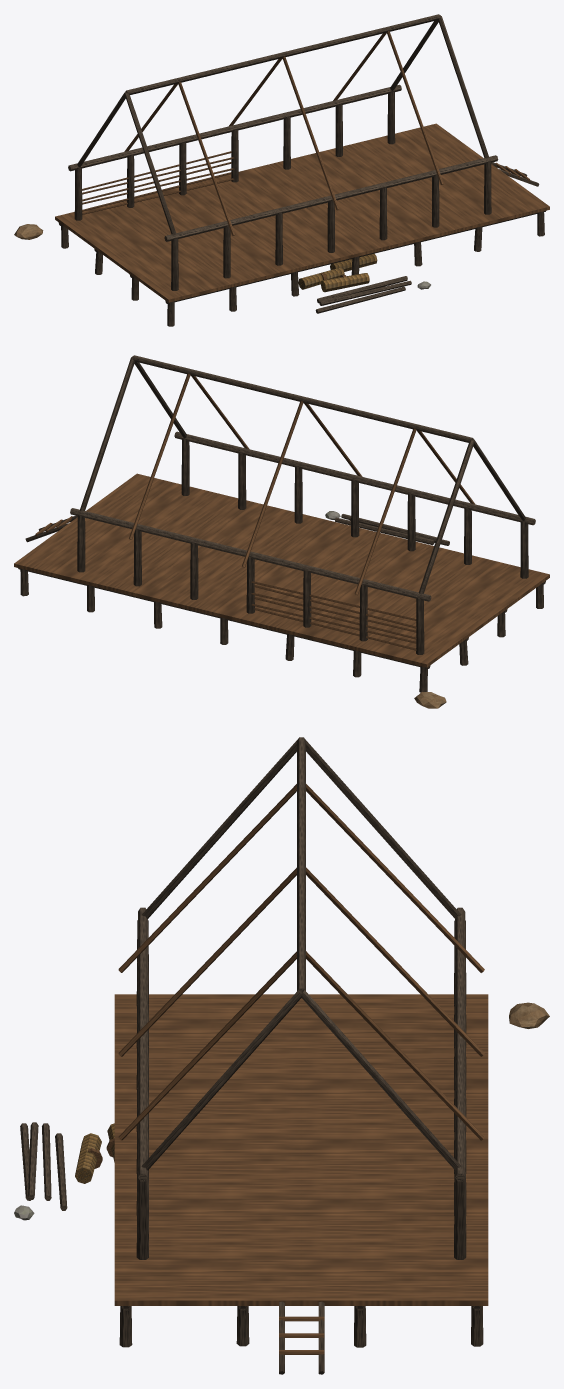
The model's file is cantiere_casa_impalcato_media.glb.
3 views of the same model, one above another, from view 1: azimuth 30°, elevation 25°; view 2: azimuth 150°, elevation 25°; view 3: azimuth 270°, elevation 25° (orthographic). The views are drawn at different scales.
Parts seen in each view (by area): view 1: cantiere_casa_impalcato_media; view 2: cantiere_casa_impalcato_media; view 3: cantiere_casa_impalcato_media.
Part boxes in pixels (box(x1,y1,x2,y2)): cantiere_casa_impalcato_media: box(14, 14, 549, 326); cantiere_casa_impalcato_media: box(14, 355, 549, 708); cantiere_casa_impalcato_media: box(14, 737, 549, 1374).
Size of the model in its own units: 15.08 by 6.2 by 9.46.
Materials: 5 (5 with a texture image).
